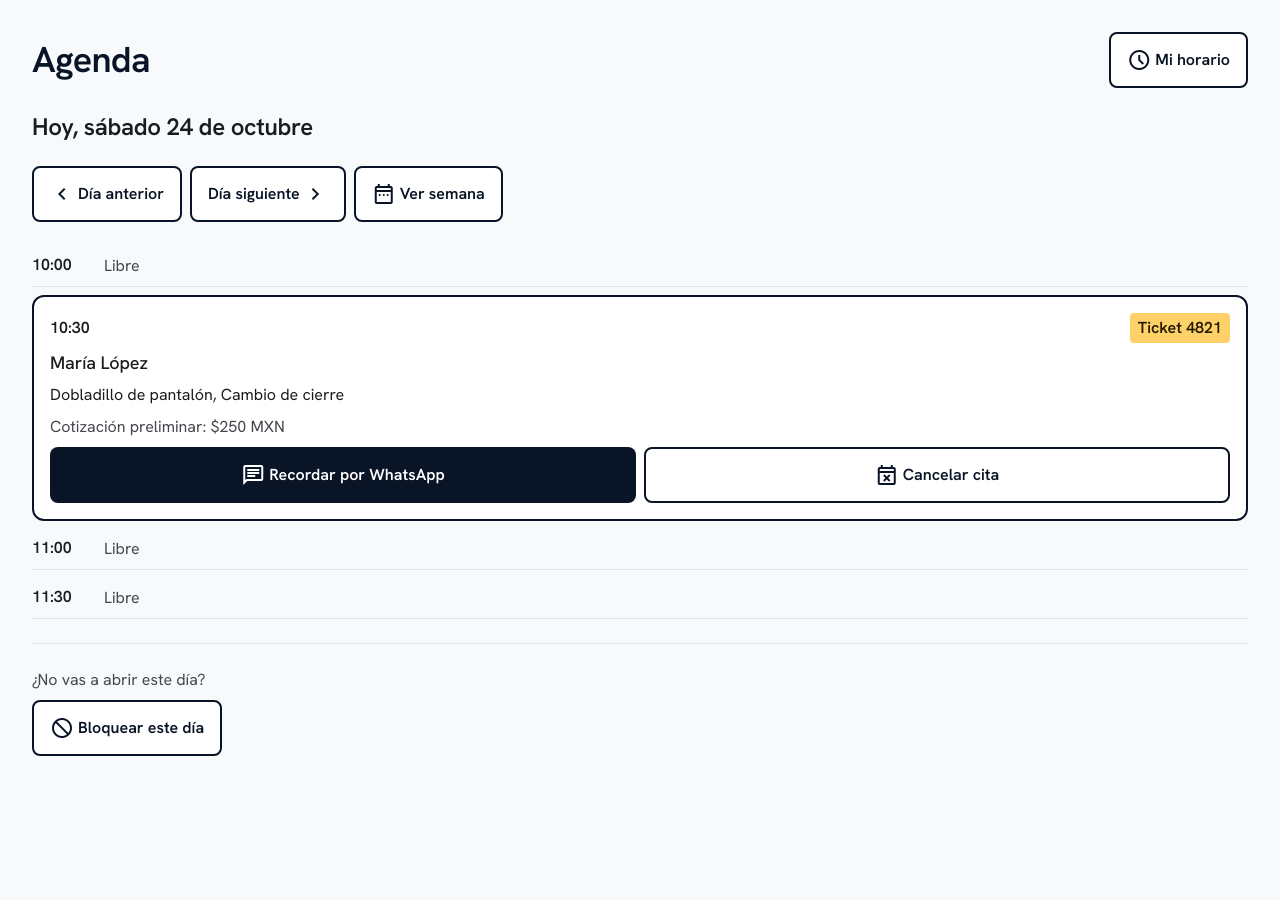
Test case: Cancel an appointment › frees the slot once the admin confirms
Click the button "Cancelar cita": click(937, 475) [644,447,1230,503]
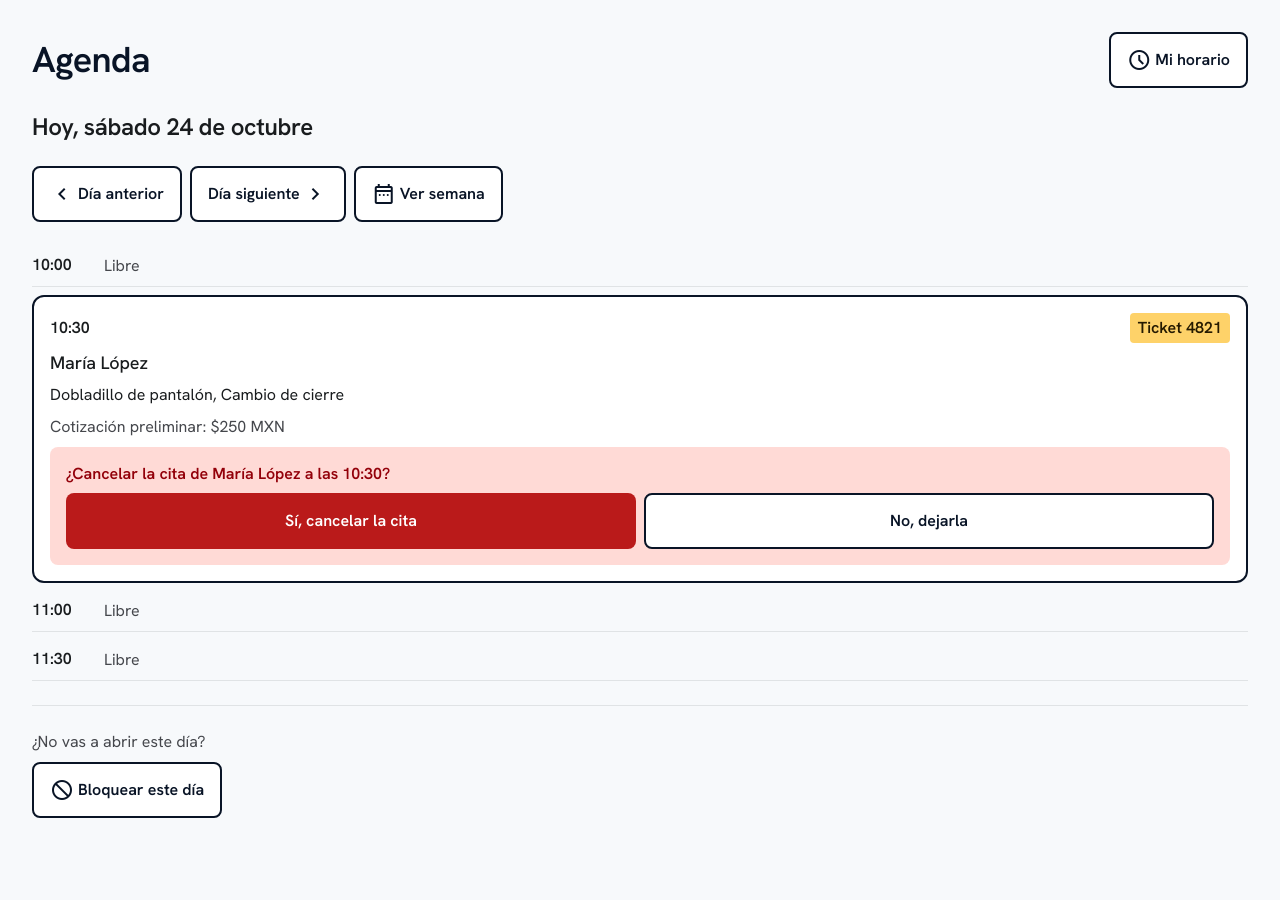
Expected: the text "¿Cancelar la cita de María López a las 10:30?" is shown, [66,463,390,484]
Click the button "Sí, cancelar la cita": click(351, 521) [66,493,636,549]
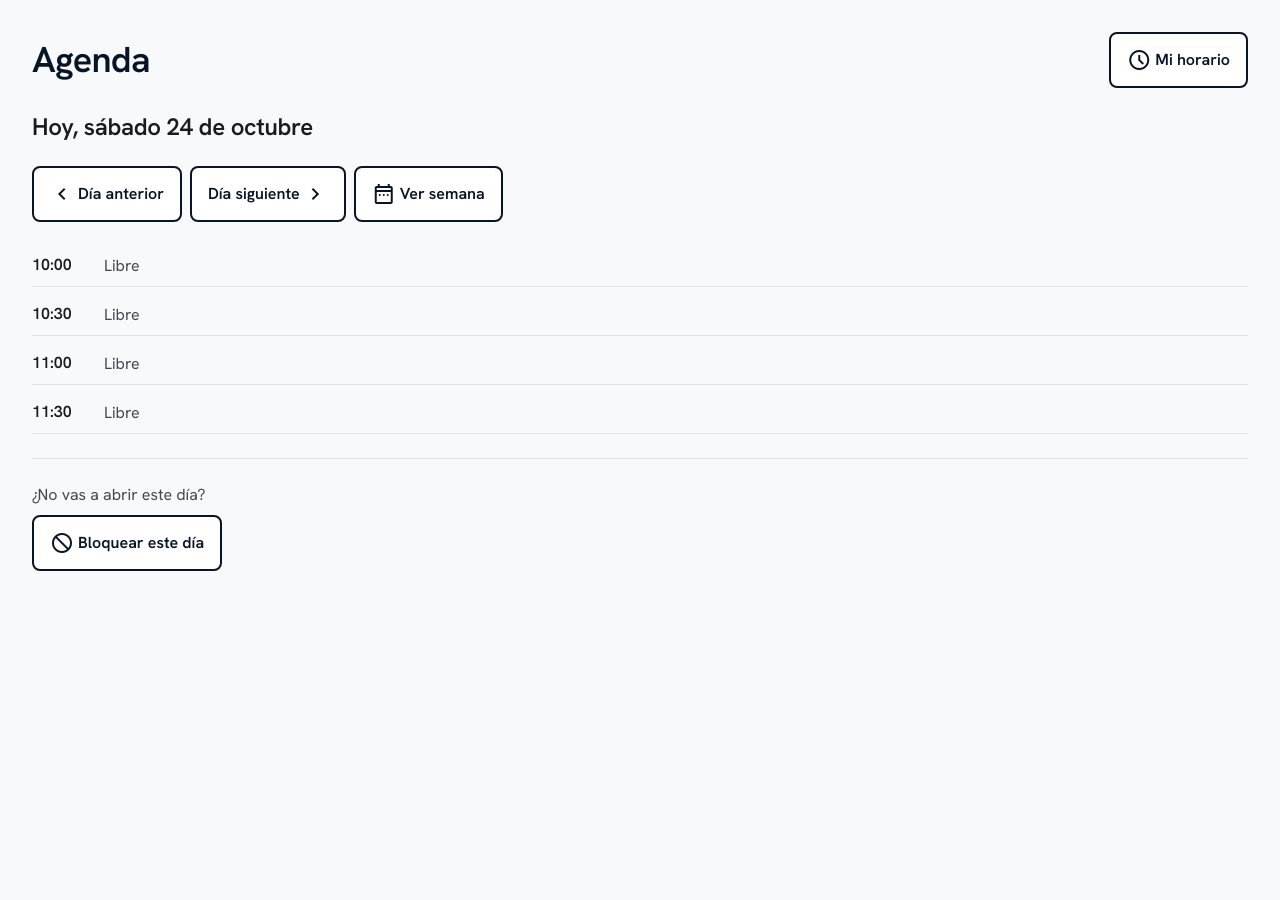
Expected: the list item "10:30 Libre" is shown, [32,295,1248,336]
